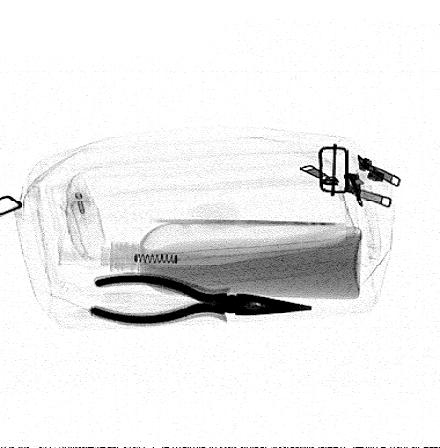Pliers: (90, 274, 313, 324)
